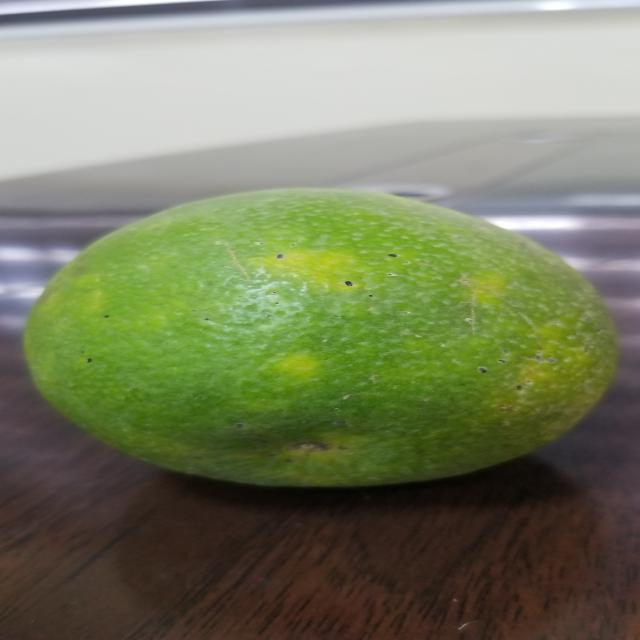Ripe orange: (19, 176, 640, 488)
